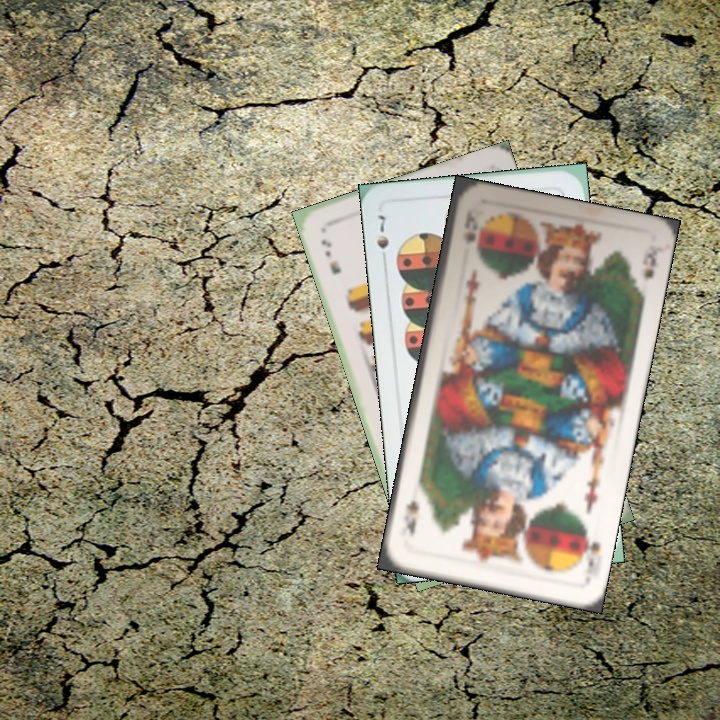E7: (317, 235, 344, 277)
S7: (372, 211, 391, 267)
SK: (575, 524, 604, 571), (460, 205, 480, 247)
